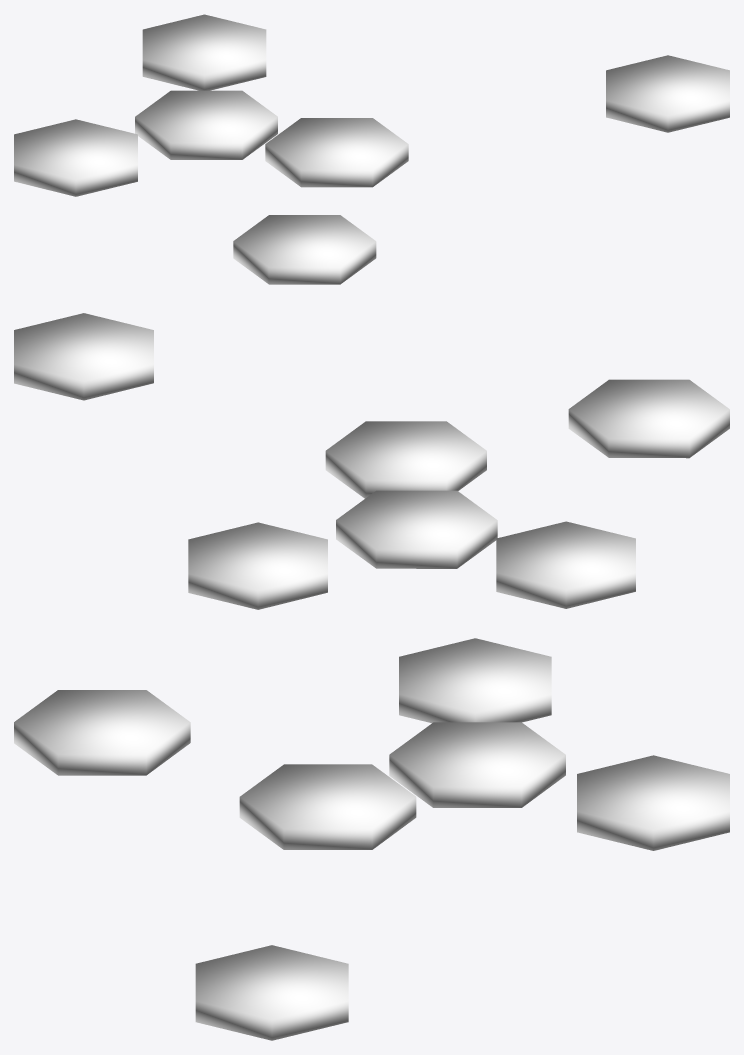
File: ef_Drop_Gold.FBX
The picture shows the model from 3 angles, top to bottom: view 1: azimuth 30°, elevation 25°; view 2: azimuth 150°, elevation 25°; view 3: azimuth 270°, elevation 25°; orthographic projection. The views are drawn at different scales.
Visible parts, largest first — view 1: ef_Drop_Gold4, ef_Drop_Gold5, ef_Drop_Gold1, ef_Drop_Gold2, ef_Drop_Gold6, ef_Drop_Gold3; view 2: ef_Drop_Gold5, ef_Drop_Gold1, ef_Drop_Gold2, ef_Drop_Gold3, ef_Drop_Gold6, ef_Drop_Gold4; view 3: ef_Drop_Gold4, ef_Drop_Gold1, ef_Drop_Gold5, ef_Drop_Gold6, ef_Drop_Gold2, ef_Drop_Gold3.
Part boxes in pixels (x1,y1,x2,y2): ef_Drop_Gold4: (265, 118, 408, 187); ef_Drop_Gold5: (233, 215, 376, 284); ef_Drop_Gold1: (135, 90, 277, 159); ef_Drop_Gold2: (142, 14, 266, 90); ef_Drop_Gold6: (606, 55, 729, 132); ef_Drop_Gold3: (14, 119, 137, 196); ef_Drop_Gold5: (568, 379, 729, 458); ef_Drop_Gold1: (336, 490, 497, 568); ef_Drop_Gold2: (188, 522, 327, 609); ef_Drop_Gold3: (496, 521, 635, 608); ef_Drop_Gold6: (14, 313, 153, 400); ef_Drop_Gold4: (325, 421, 486, 498); ef_Drop_Gold4: (239, 764, 416, 849); ef_Drop_Gold1: (389, 722, 565, 807); ef_Drop_Gold5: (14, 690, 190, 775); ef_Drop_Gold6: (195, 945, 348, 1040); ef_Drop_Gold2: (577, 755, 729, 850); ef_Drop_Gold3: (399, 638, 551, 723).
Size of the model in its own units: 34.27 by 27.17 by 1.04.
